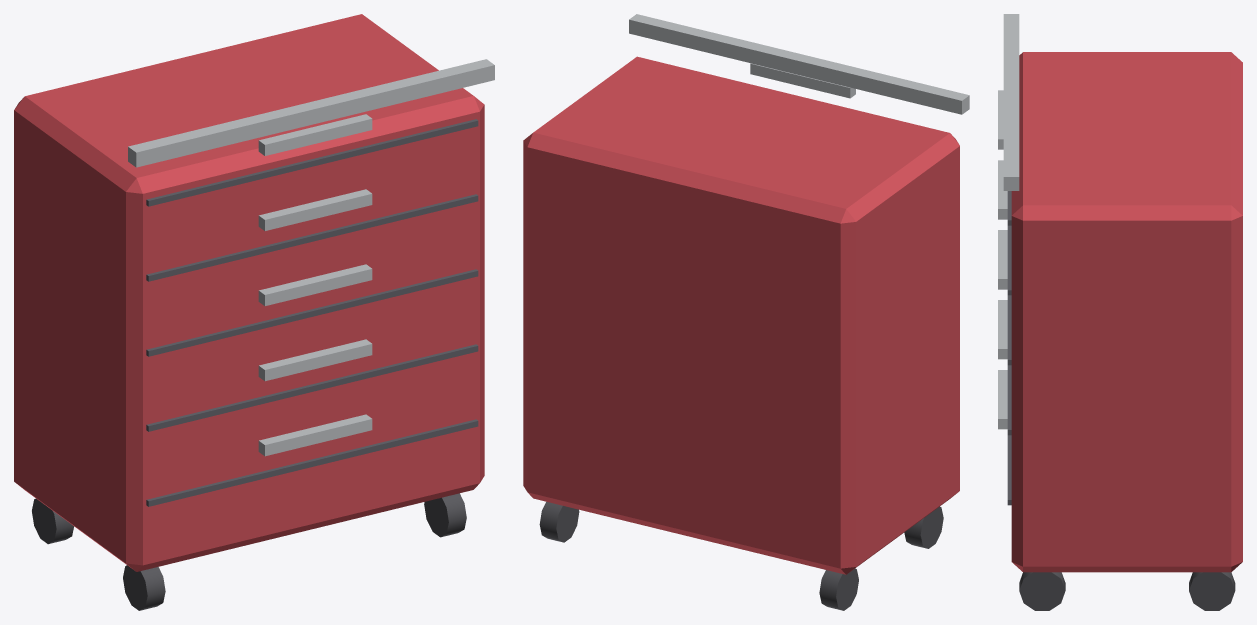
File: rs_toolchest.glb
3 views of the same model, side by side, from view 1: azimuth 30°, elevation 25°; view 2: azimuth 150°, elevation 25°; view 3: azimuth 270°, elevation 25° (orthographic). The views are drawn at different scales.
Visible parts, largest first — view 1: rs_toolchest; view 2: rs_toolchest; view 3: rs_toolchest.
Part boxes in pixels (x1=…): rs_toolchest: x1=14, y1=14, x2=494, y2=610; rs_toolchest: x1=523, y1=14, x2=969, y2=610; rs_toolchest: x1=998, y1=14, x2=1242, y2=610.
Size of the model in its own units: 1 by 1.27 by 0.635.
